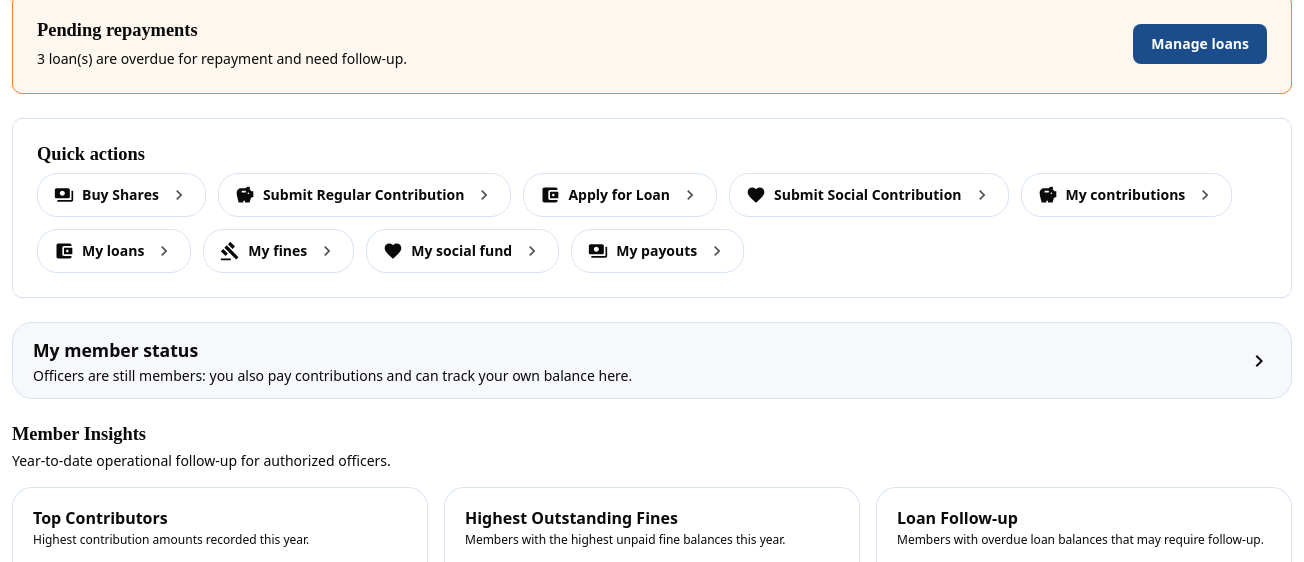
Test: My Member Status is collapsible on every dashboard › officer dashboard: expanding shows the cards inside the section, once
This screenshot has width=1304, height=562.
(page scrolled)
Click the button "My member status": point(116, 350) 13,323 -> 1291,398
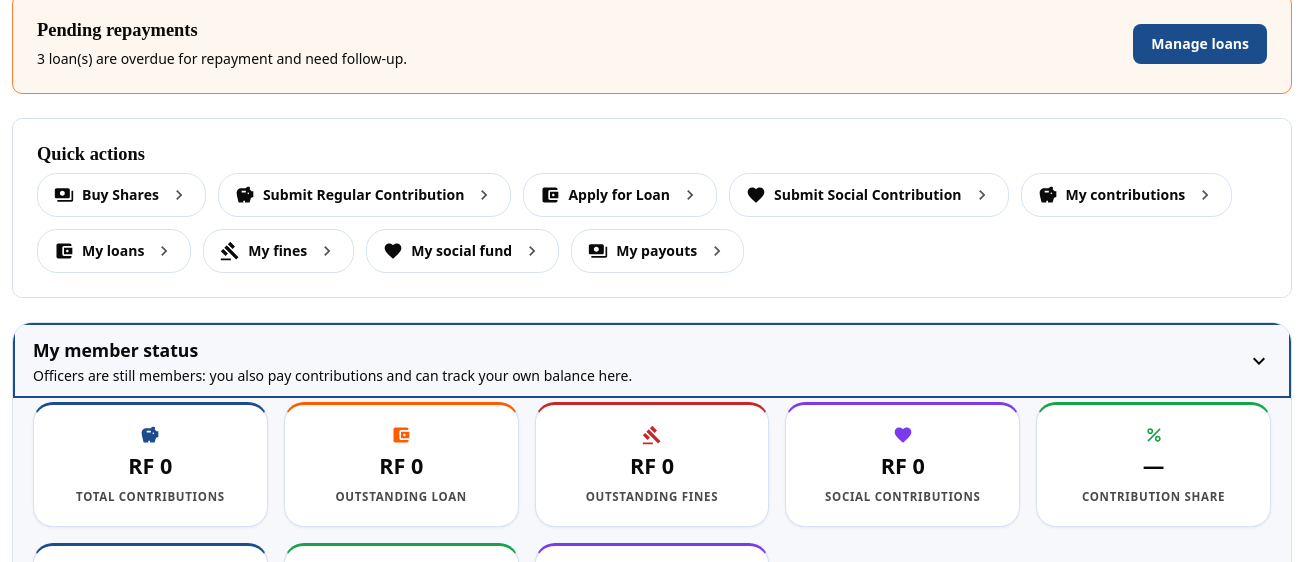
Expected: the number of elements with test id "member-quick-actions" is 1, 12,118 -> 1292,298
Expected: the text "Total contributions" is shown once, 76,489 -> 225,504
